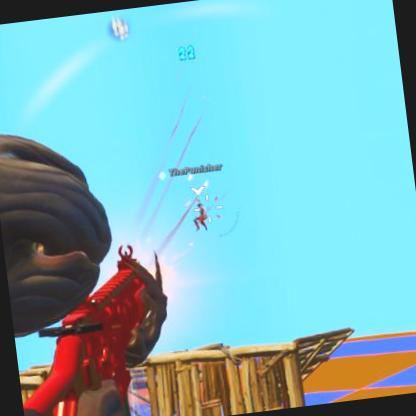person: (188, 197, 211, 234)
